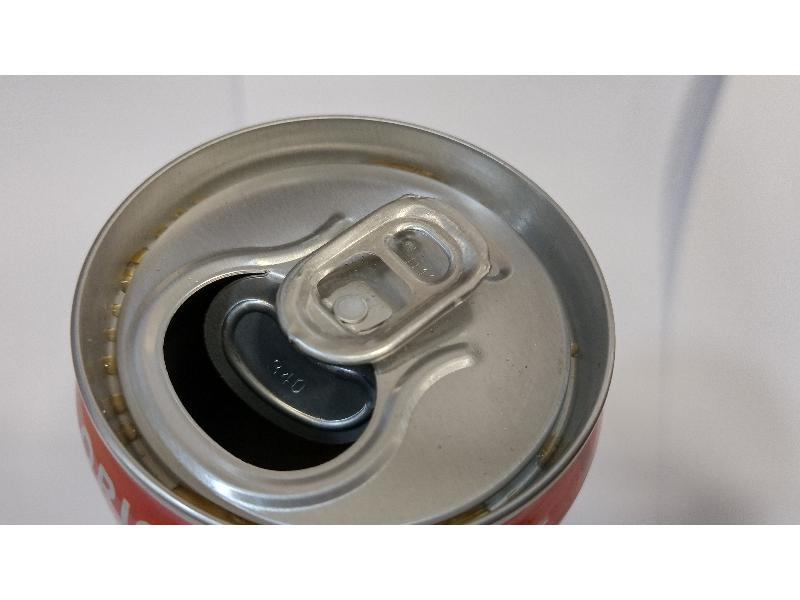can: (67, 103, 629, 553)
